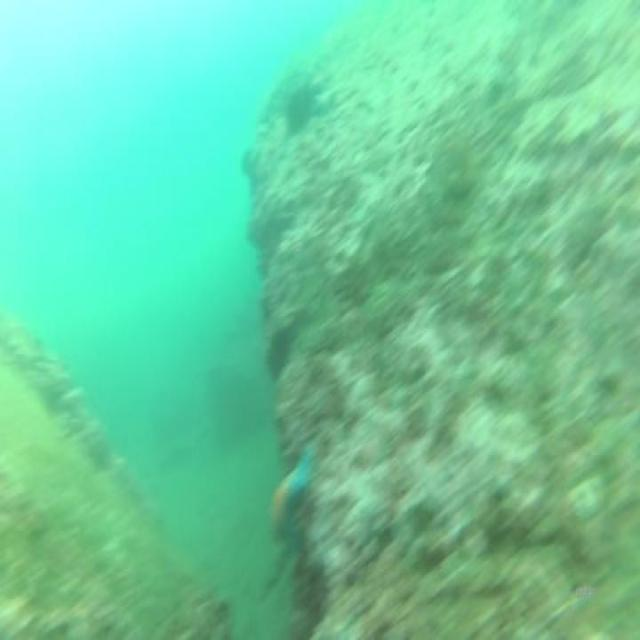starfish: (263, 449, 319, 559)
